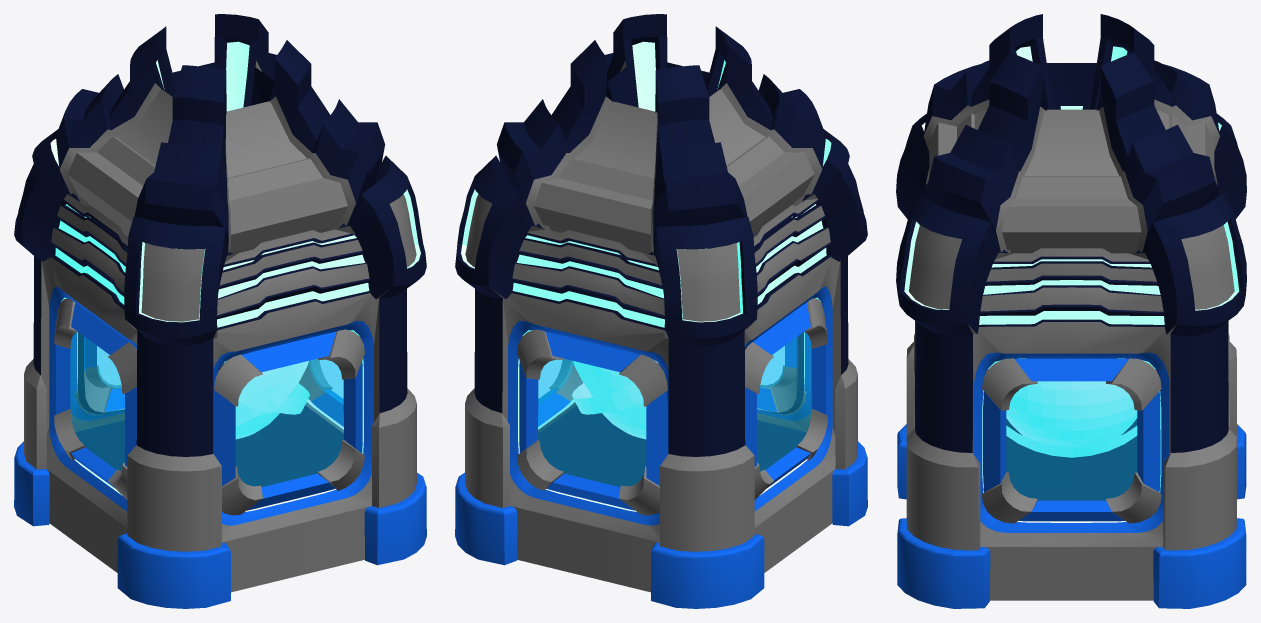
Rendered from bomba kule 3.fbx.
3 views of the same model, side by side, from view 1: azimuth 30°, elevation 25°; view 2: azimuth 150°, elevation 25°; view 3: azimuth 270°, elevation 25° (orthographic). The views are drawn at different scales.
Parts seen in each view (by area): view 1: Cube.009; view 2: Cube.009; view 3: Cube.009.
Boxes of the visible parts, x1=… form: Cube.009: x1=14, y1=14, x2=426, y2=608; Cube.009: x1=455, y1=14, x2=867, y2=608; Cube.009: x1=896, y1=14, x2=1246, y2=608.
Bounding box in the file's own units: 238 × 371 × 238.
